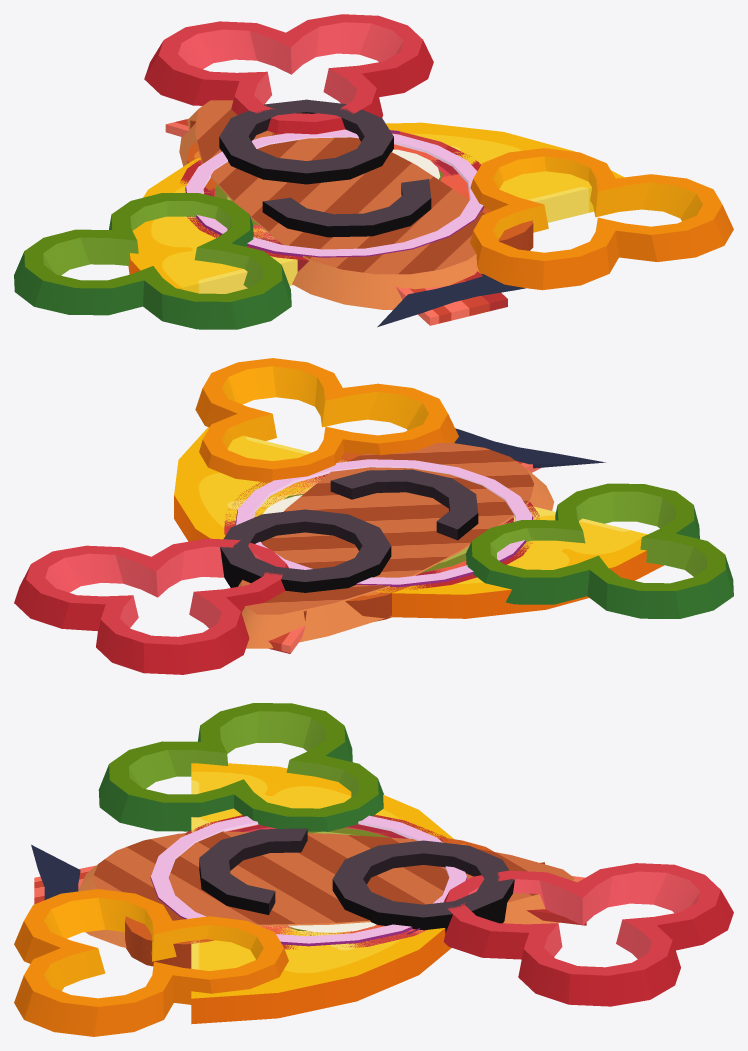
Rendered from toppings.glb.
3 renders of one model, top to bottom at view 1: azimuth 30°, elevation 25°; view 2: azimuth 150°, elevation 25°; view 3: azimuth 270°, elevation 25°, orthographic. The views are drawn at different scales.
Parts seen in each view (by area): view 1: Chicken, Pepper_Slice_2, Pepper_Slice_1, Pepper_Slice_0, Pineapple, Olive_Slice_0, Onion, Olive_Slice_1, Anchovies, Bacon, Tomato, Sausage (+1 smaller); view 2: Chicken, Pepper_Slice_0, Pepper_Slice_1, Pepper_Slice_2, Pineapple, Olive_Slice_0, Onion, Olive_Slice_1, Anchovies, Tomato, Sausage, Bacon; view 3: Pepper_Slice_0, Pepper_Slice_2, Pepper_Slice_1, Pineapple, Chicken, Olive_Slice_0, Onion, Olive_Slice_1, Sausage, Anchovies, Tomato, Bacon (+2 smaller).
Boxes of the visible parts, x1,y1,x2,y2 form: Chicken: (179, 100, 484, 309); Pepper_Slice_2: (470, 148, 733, 290); Pepper_Slice_1: (14, 193, 291, 329); Pepper_Slice_0: (144, 14, 433, 134); Pineapple: (128, 122, 623, 293); Olive_Slice_0: (219, 99, 393, 184); Onion: (185, 129, 484, 257); Olive_Slice_1: (262, 179, 431, 237); Anchovies: (377, 274, 525, 327); Bacon: (165, 119, 507, 325); Tomato: (180, 130, 480, 271); Sausage: (187, 120, 533, 250); Chicken: (238, 443, 553, 648); Pepper_Slice_0: (14, 538, 288, 674); Pepper_Slice_1: (466, 483, 733, 618); Pepper_Slice_2: (195, 358, 458, 482); Pineapple: (174, 427, 663, 618); Olive_Slice_0: (220, 509, 391, 592); Onion: (235, 459, 533, 587); Olive_Slice_1: (330, 469, 478, 540); Anchovies: (454, 428, 605, 468); Tomato: (224, 459, 539, 590); Sausage: (303, 452, 410, 621); Bacon: (267, 461, 541, 653); Pepper_Slice_0: (443, 863, 733, 1006); Pepper_Slice_2: (14, 889, 288, 1036); Pepper_Slice_1: (98, 703, 383, 831); Pineapple: (191, 763, 453, 1024); Chicken: (78, 831, 578, 947); Olive_Slice_0: (332, 840, 514, 933); Onion: (150, 815, 467, 946); Olive_Slice_1: (199, 828, 307, 914); Sausage: (125, 832, 544, 968); Anchovies: (31, 844, 80, 900); Tomato: (185, 814, 447, 949); Bacon: (34, 865, 586, 925).
Bounding box in the file's own units: 0.2629 × 0.0154 × 0.2558.
14 materials, 14 textured.
